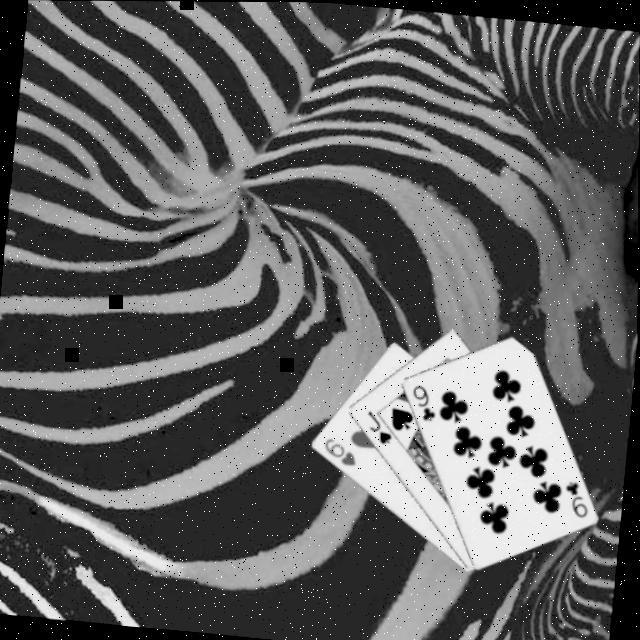6H: (317, 435, 359, 470)
9C: (404, 382, 439, 426), (558, 478, 590, 520)
JS: (360, 408, 394, 448)
